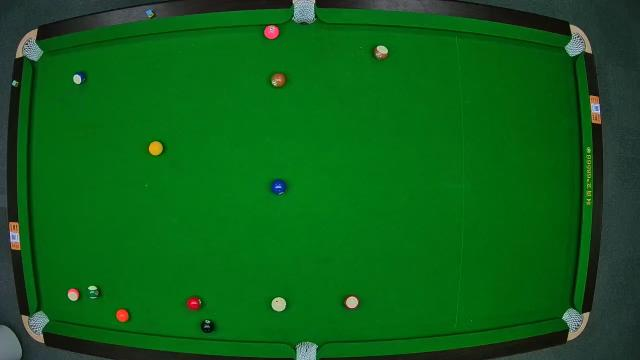bag1: (22, 40, 38, 60)
bag2: (291, 2, 317, 24)
bag3: (564, 35, 588, 56)
bag4: (28, 312, 46, 332)
bag5: (294, 340, 318, 360)
bag6: (561, 308, 583, 330)
ball0: (270, 296, 288, 312)
ball1: (148, 142, 164, 156)
ball10: (72, 72, 86, 84)
ball11: (344, 295, 360, 309)
ball12: (67, 288, 81, 302)
ball14: (86, 284, 100, 300)
ball15: (374, 44, 388, 60)
ball2: (270, 179, 286, 195)
ball3: (186, 296, 202, 310)
ball4: (263, 24, 279, 40)
ball5: (114, 309, 130, 323)
ball7: (272, 72, 286, 88)
ball8: (200, 320, 216, 334)
